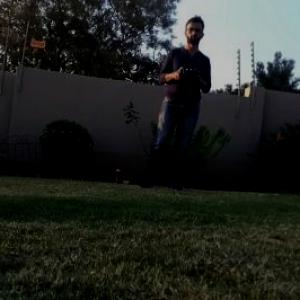follow: (133, 6, 213, 194)
